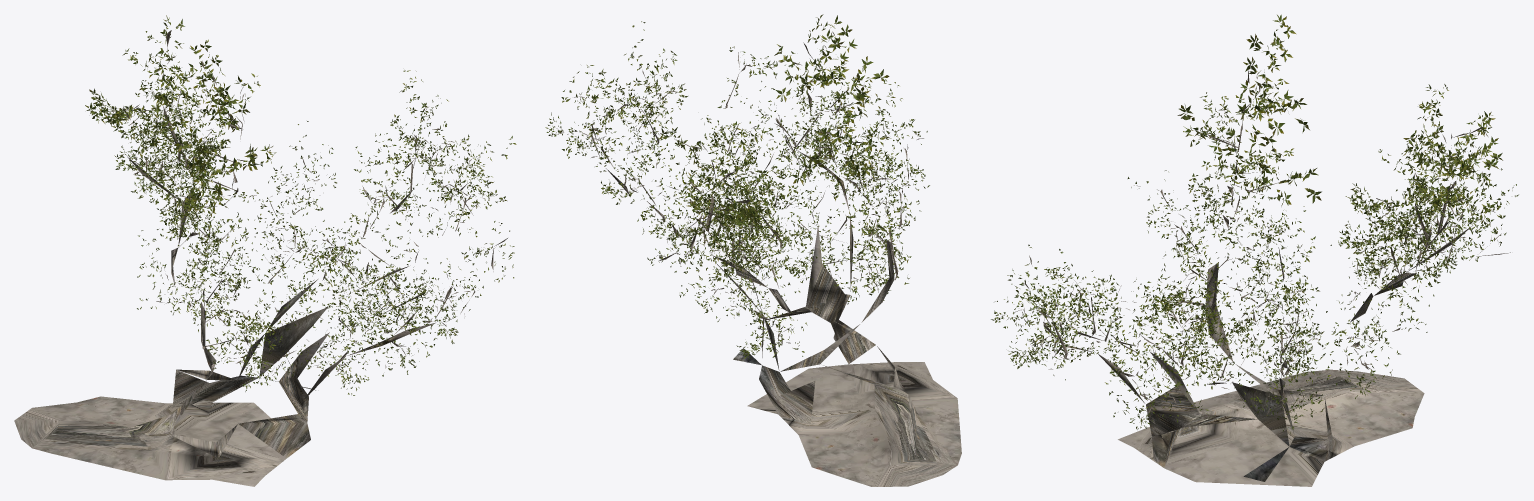
File: island_tree_03.glb
3 renders of one model, left to right at view 1: azimuth 30°, elevation 25°; view 2: azimuth 150°, elevation 25°; view 3: azimuth 270°, elevation 25°, orthographic. The views are drawn at different scales.
Parts seen in each view (by area): view 1: island_tree_03_LOD0; view 2: island_tree_03_LOD0; view 3: island_tree_03_LOD0.
Boxes of the visible parts, x1,y1,x2,y2 form: island_tree_03_LOD0: (14, 15, 516, 486); island_tree_03_LOD0: (545, 14, 961, 486); island_tree_03_LOD0: (991, 14, 1518, 486).
Bounding box in the file's own units: 2.94 × 2.61 × 2.88.
Materials: 3 (3 with a texture image).
